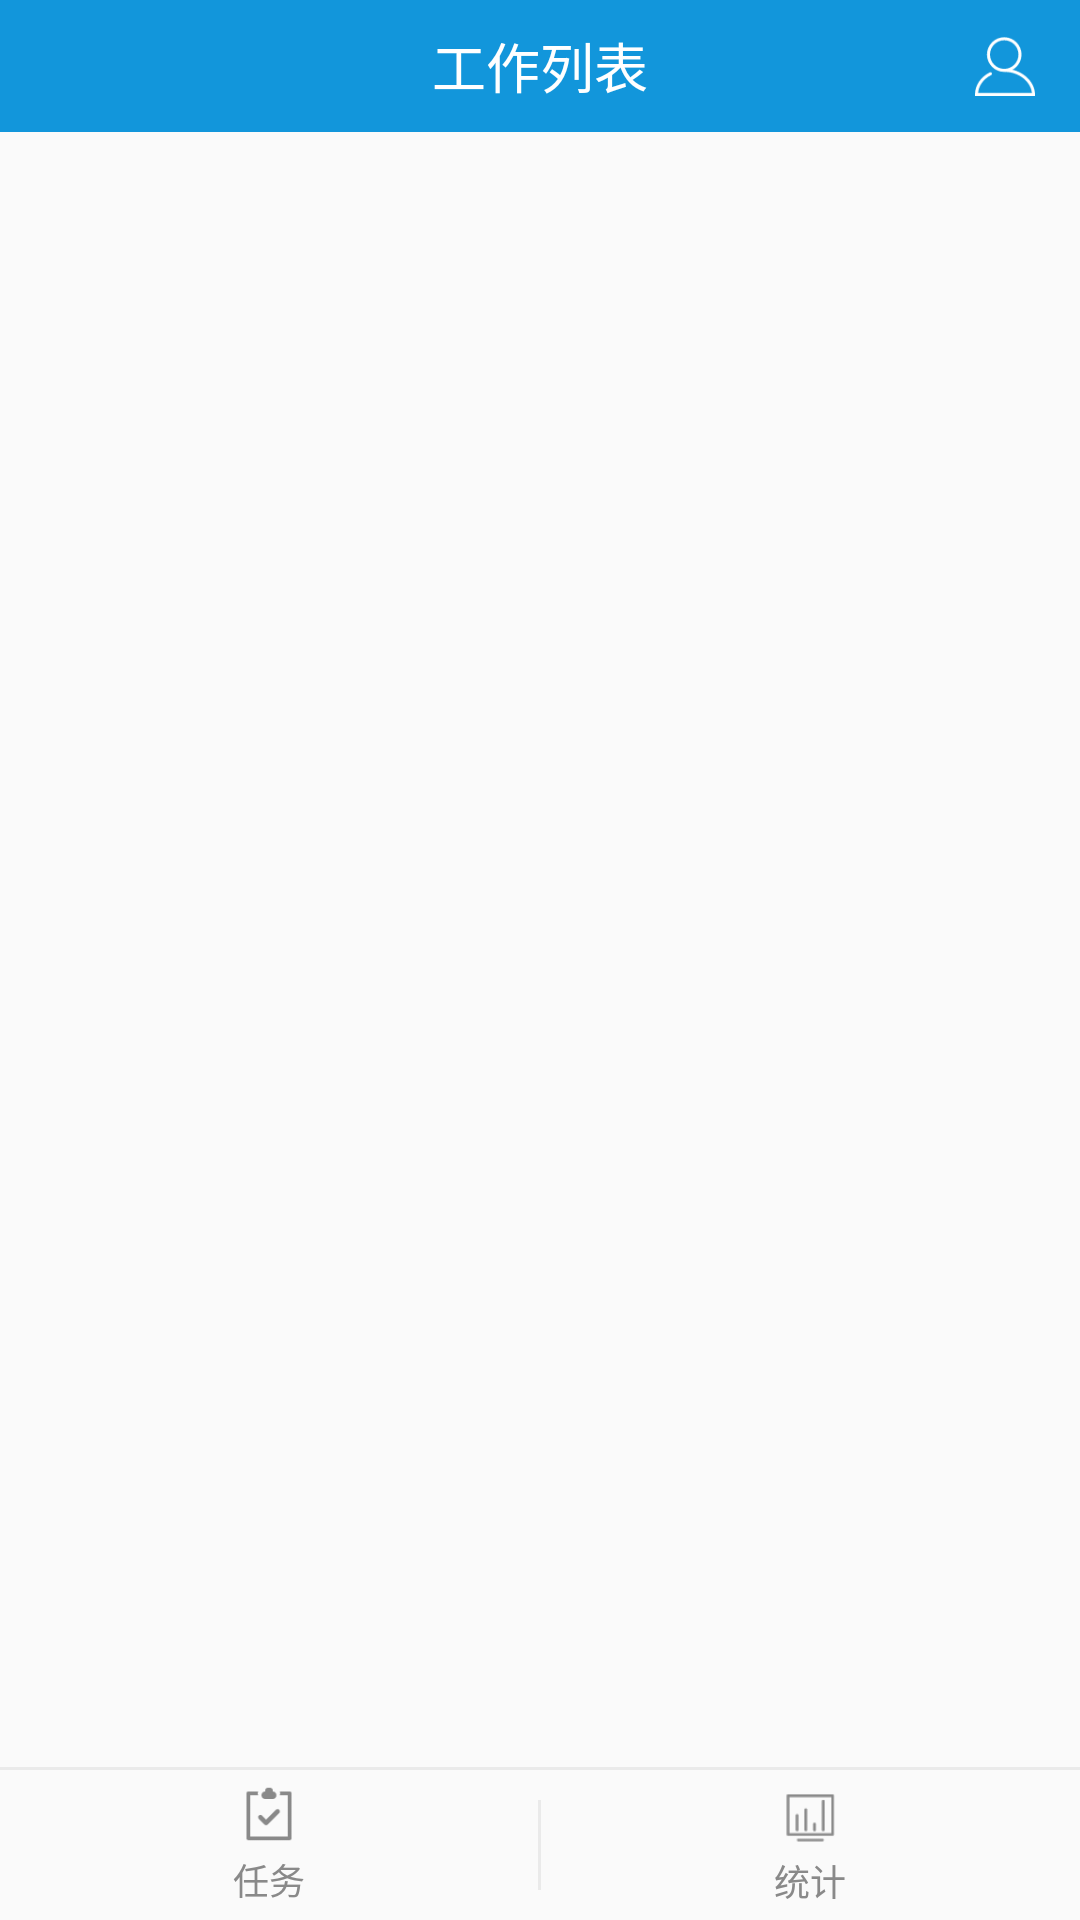

Icons on this 1080 × 1920 Android screen, each with its box as (x1, y1, x2, y2):
mine: (975, 37, 1035, 96)
